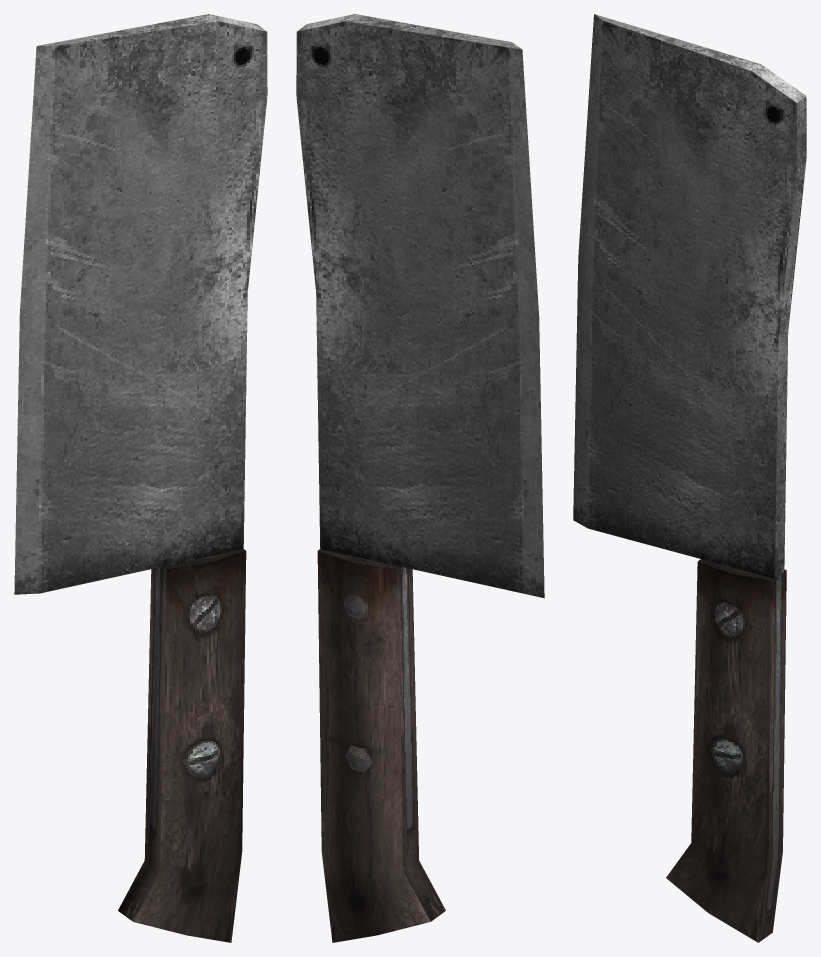
The model's file is cleaver.glb.
The picture shows the model from 3 angles, left to right: view 1: azimuth 30°, elevation 25°; view 2: azimuth 150°, elevation 25°; view 3: azimuth 330°, elevation 25°; orthographic projection. The views are drawn at different scales.
Parts seen in each view (by area): view 1: cleaver; view 2: cleaver; view 3: cleaver.
Part boxes in pixels (x1=…): cleaver: x1=14, y1=14, x2=267, y2=942; cleaver: x1=296, y1=14, x2=544, y2=942; cleaver: x1=573, y1=14, x2=806, y2=942.
Size of the model in its own units: 0.0887 by 0.3225 by 0.0145.
1 material, 1 textured.
